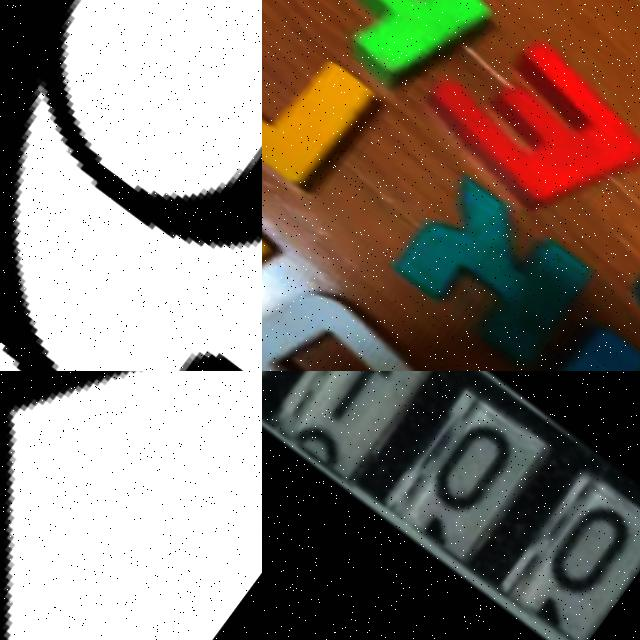0: (525, 476, 640, 614), (412, 398, 533, 528)
1: (300, 371, 416, 447)
9: (0, 0, 262, 371)
E: (410, 5, 640, 250)
F: (294, 0, 500, 106)
J: (500, 299, 640, 371)
K: (383, 164, 588, 366)
L: (262, 0, 383, 204)
Q: (262, 246, 449, 371)
X: (0, 371, 262, 640)
